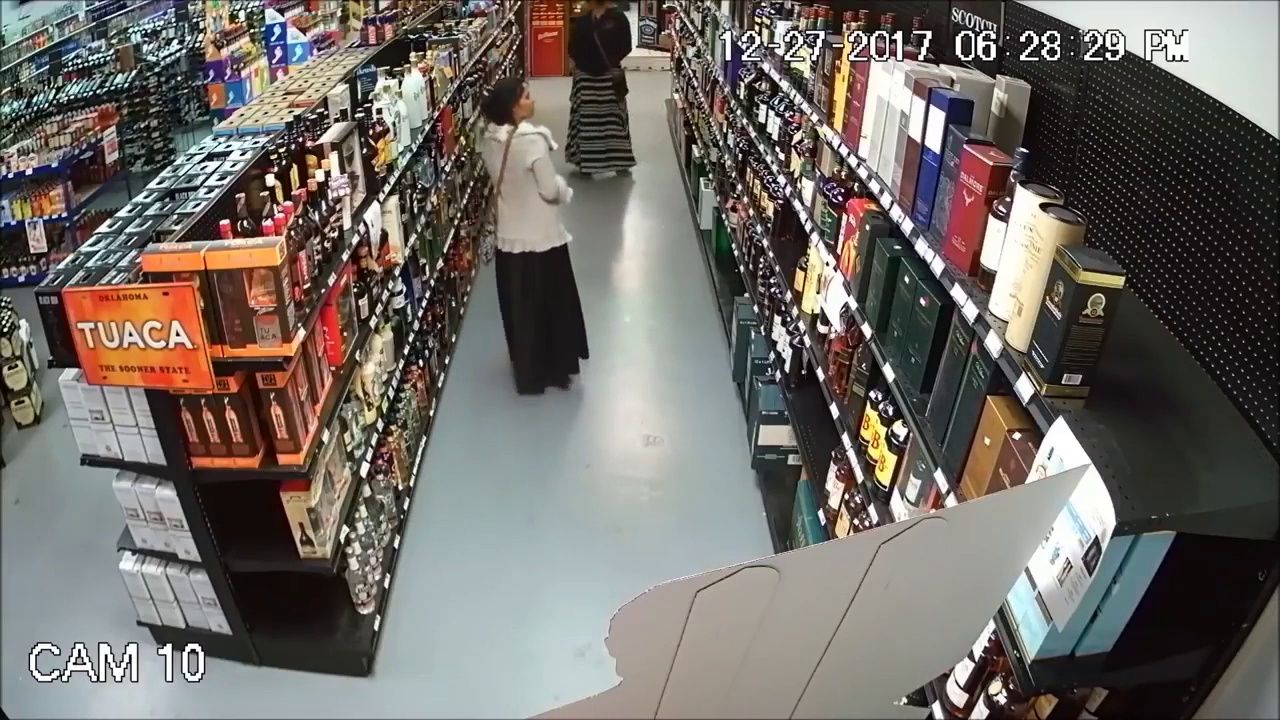face: (506, 79, 540, 121)
